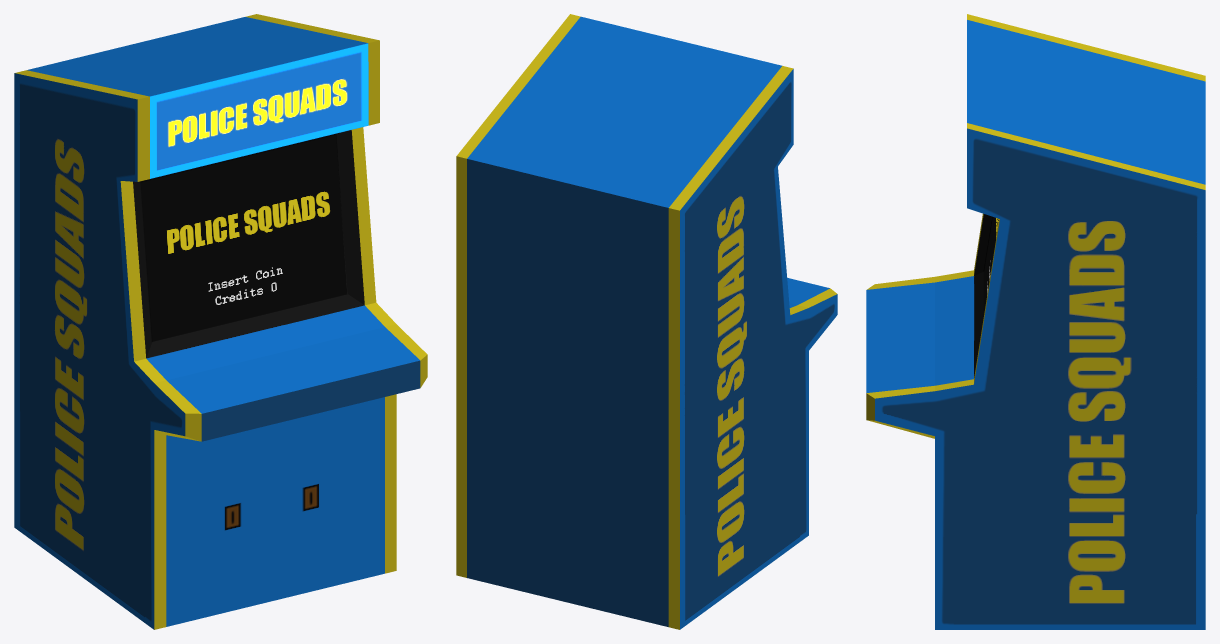
The model's file is cab_police.glb.
3 views of the same model, side by side, from view 1: azimuth 30°, elevation 25°; view 2: azimuth 150°, elevation 25°; view 3: azimuth 270°, elevation 25° (orthographic). The views are drawn at different scales.
Parts seen in each view (by area): view 1: cabinet; view 2: cabinet; view 3: cabinet.
Part boxes in pixels (x1,y1,x2,y2): cabinet: (14,14,427,629); cabinet: (456,14,837,629); cabinet: (866,14,1205,629).
Size of the model in its own units: 2 by 4.09 by 2.51.
Materials: 2 (2 with a texture image).
